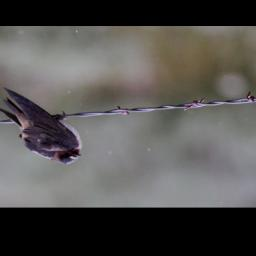Swallow: (0, 87, 84, 166)
